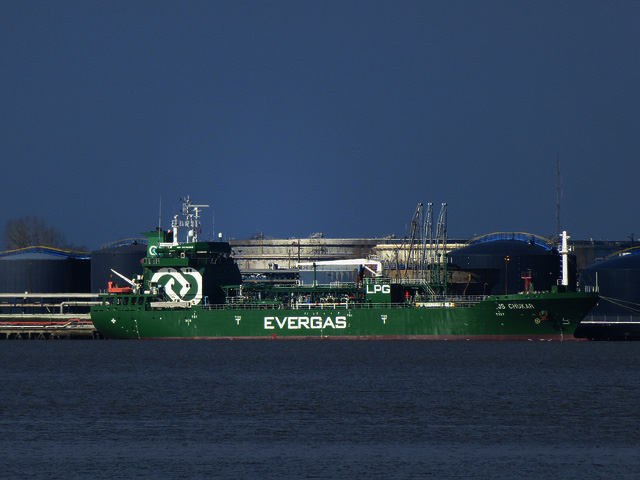tanker: (89, 200, 594, 348)
